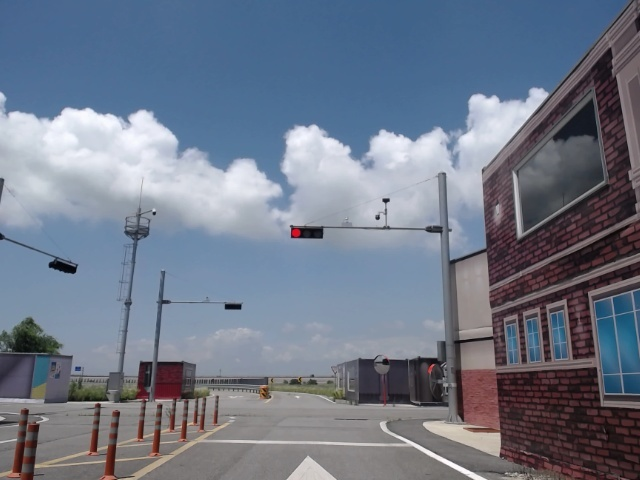red_3: (289, 225, 323, 240)
